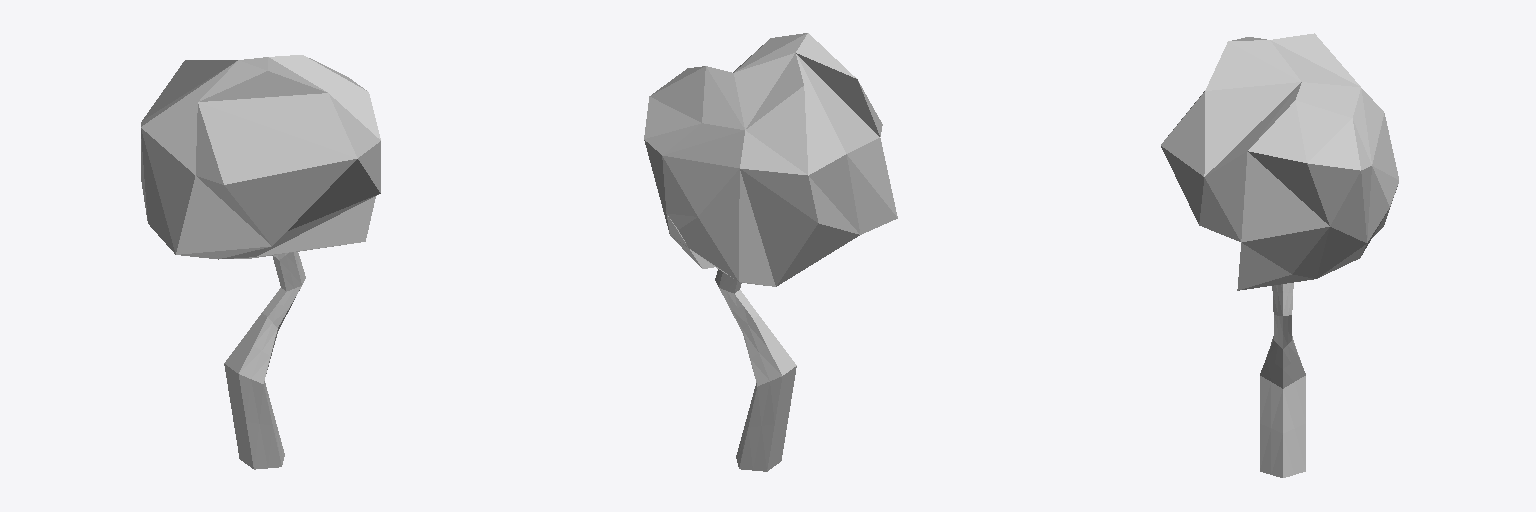
File: tree2_xs.obj
The picture shows the model from 3 angles: view 1: azimuth 30°, elevation 25°; view 2: azimuth 150°, elevation 25°; view 3: azimuth 270°, elevation 25°; orthographic projection.
Visible parts, largest first — view 1: Hedra001.001, Cylinder002.001; view 2: Hedra001.001, Cylinder002.001; view 3: Hedra001.001, Cylinder002.001.
Boxes of the visible parts, box(x1,y1,x2,y2) form: Hedra001.001: box(141, 55, 380, 259); Cylinder002.001: box(224, 252, 305, 469); Hedra001.001: box(644, 33, 897, 286); Cylinder002.001: box(715, 269, 796, 471); Hedra001.001: box(1161, 33, 1398, 290); Cylinder002.001: box(1260, 283, 1305, 477).
Size of the model in its own units: 2.17 by 4.1 by 2.14.